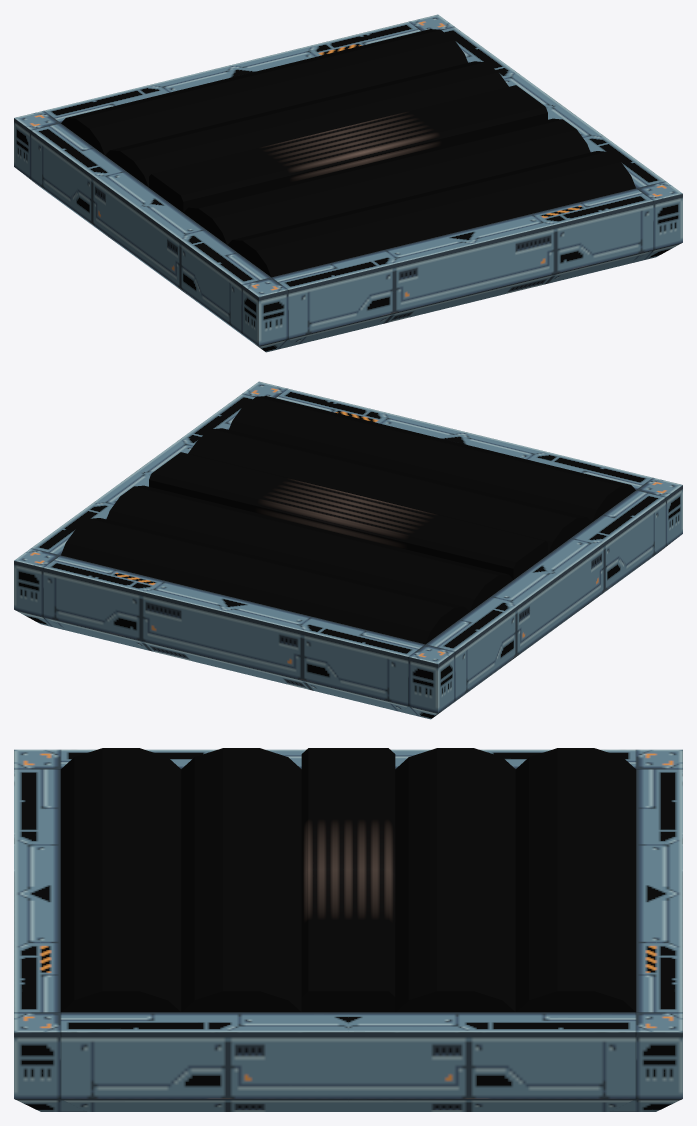
Rendered from BouncyPlatform_2x2_Metal.fbx.
The picture shows the model from 3 angles, top to bottom: view 1: azimuth 30°, elevation 25°; view 2: azimuth 150°, elevation 25°; view 3: azimuth 270°, elevation 25°; orthographic projection. The views are drawn at different scales.
Visible parts, largest first — view 1: BouncyPlatform_2x2_Metal; view 2: BouncyPlatform_2x2_Metal; view 3: BouncyPlatform_2x2_Metal.
Part boxes in pixels (x1,y1,x2,y2): BouncyPlatform_2x2_Metal: (14,14,682,352); BouncyPlatform_2x2_Metal: (14,381,682,719); BouncyPlatform_2x2_Metal: (14,748,682,1111).
Bounding box in the file's own units: 50 × 9.25 × 50.
